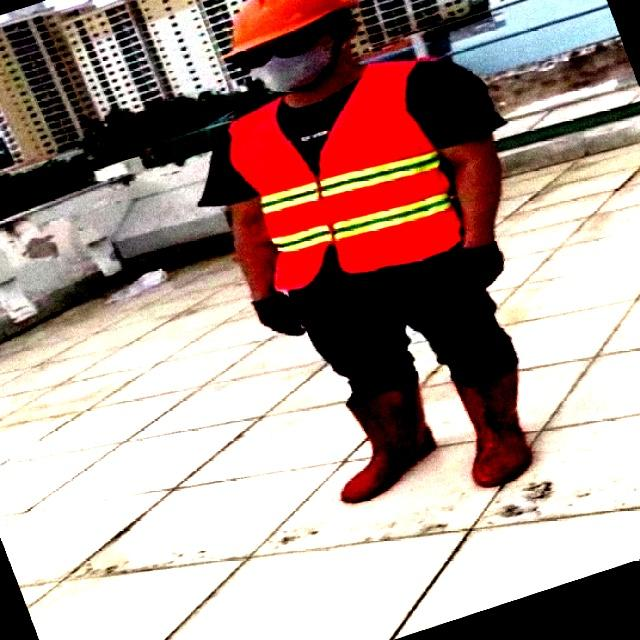helmet: (223, 0, 354, 61)
safety_vest: (228, 38, 483, 290)
